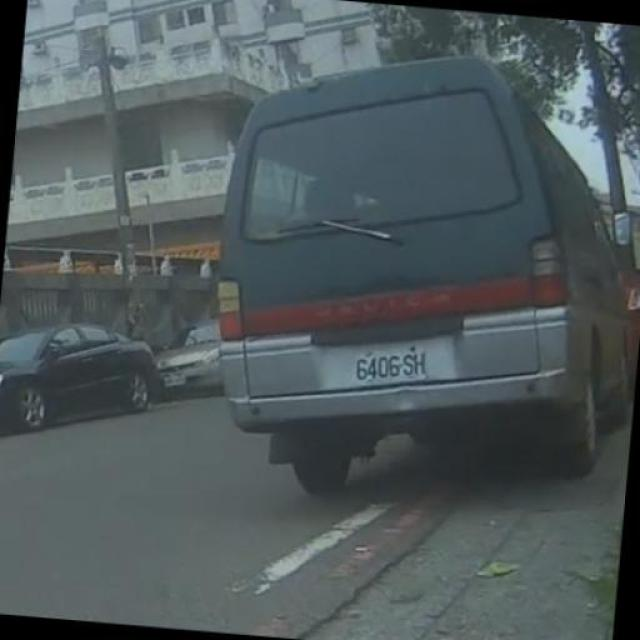Legalparking: (191, 73, 621, 515)
